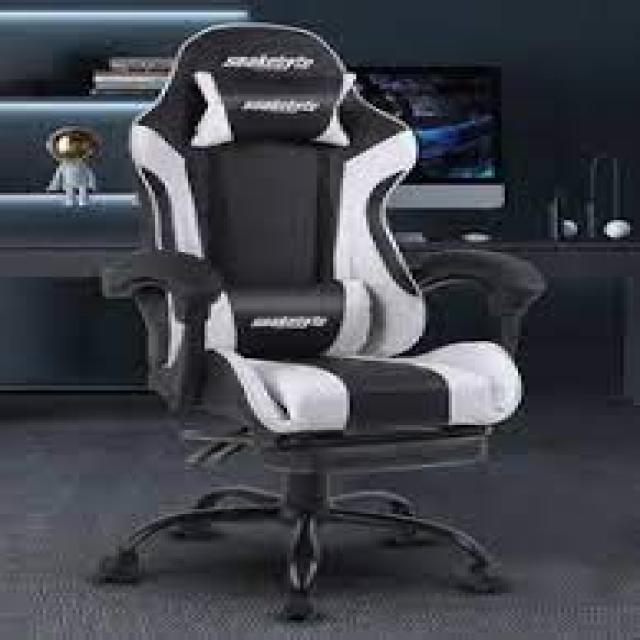chair: (24, 19, 640, 638)
